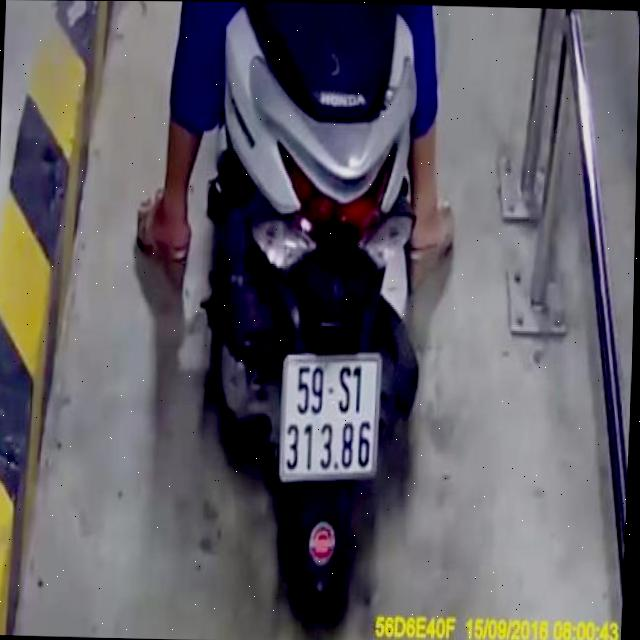motorcycle: (168, 1, 445, 640)
plate: (271, 346, 386, 483)
